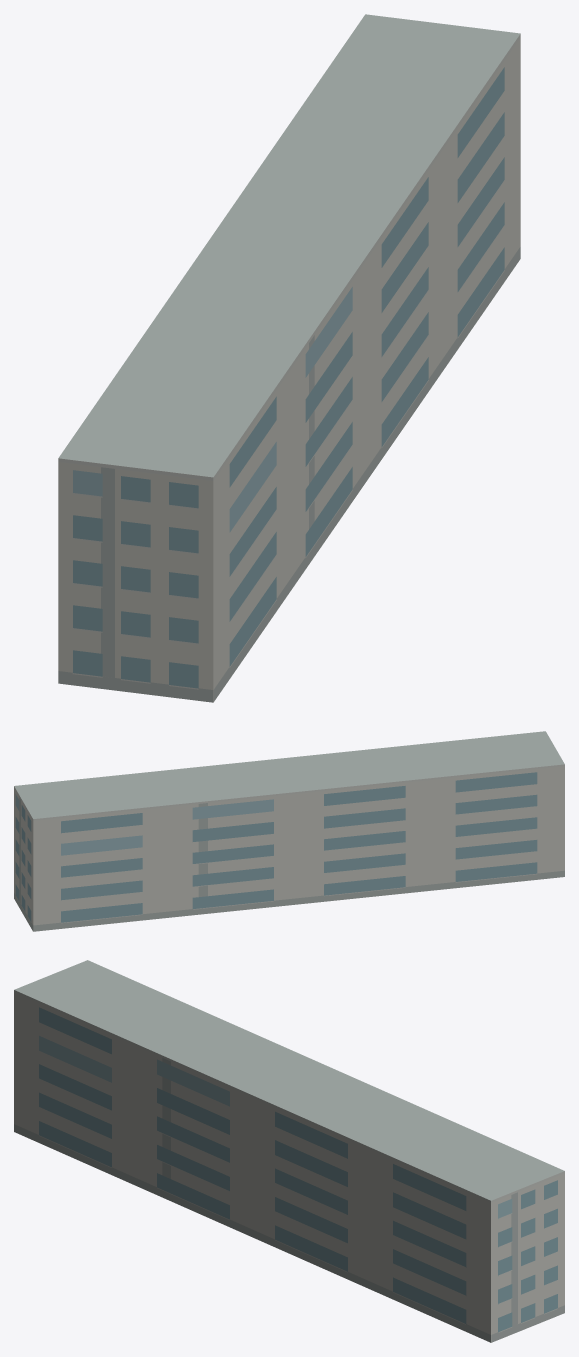
Rendered from residential-4fc3f66a-9c3e-4c63-8a93-9cf3daaaf258.glb.
3 views of the same model, one above another, from view 1: azimuth 30°, elevation 25°; view 2: azimuth 150°, elevation 25°; view 3: azimuth 270°, elevation 25° (orthographic). The views are drawn at different scales.
Visible parts, largest first — view 1: residential-4fc3f66a-9c3e-4c63-8a93-9cf3daaaf258.tmp; view 2: residential-4fc3f66a-9c3e-4c63-8a93-9cf3daaaf258.tmp; view 3: residential-4fc3f66a-9c3e-4c63-8a93-9cf3daaaf258.tmp.
Boxes of the visible parts, left/top/right/bottom form: residential-4fc3f66a-9c3e-4c63-8a93-9cf3daaaf258.tmp: left=58, top=14, right=520, bottom=702; residential-4fc3f66a-9c3e-4c63-8a93-9cf3daaaf258.tmp: left=14, top=731, right=564, bottom=931; residential-4fc3f66a-9c3e-4c63-8a93-9cf3daaaf258.tmp: left=14, top=960, right=564, bottom=1342.
Size of the model in its own units: 55.43 by 15.25 by 53.6.
